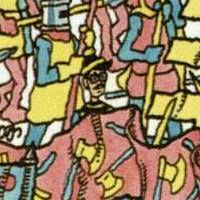odlaw: (84, 56, 107, 97)
